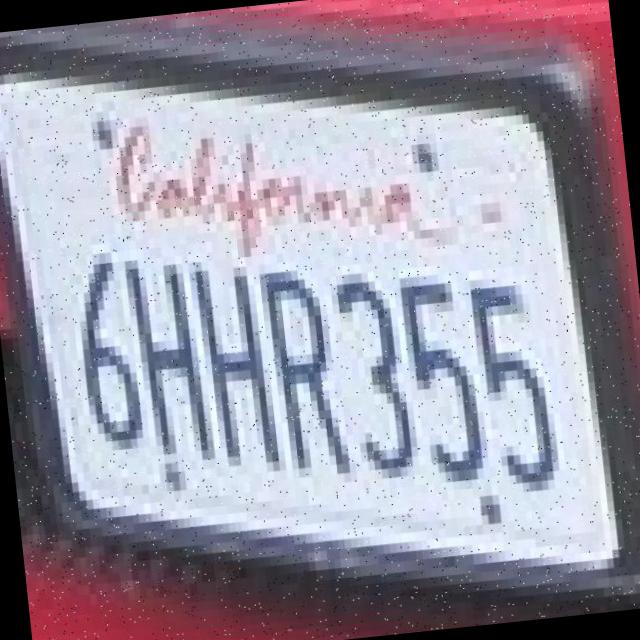LicensePlate: (0, 10, 625, 605)
